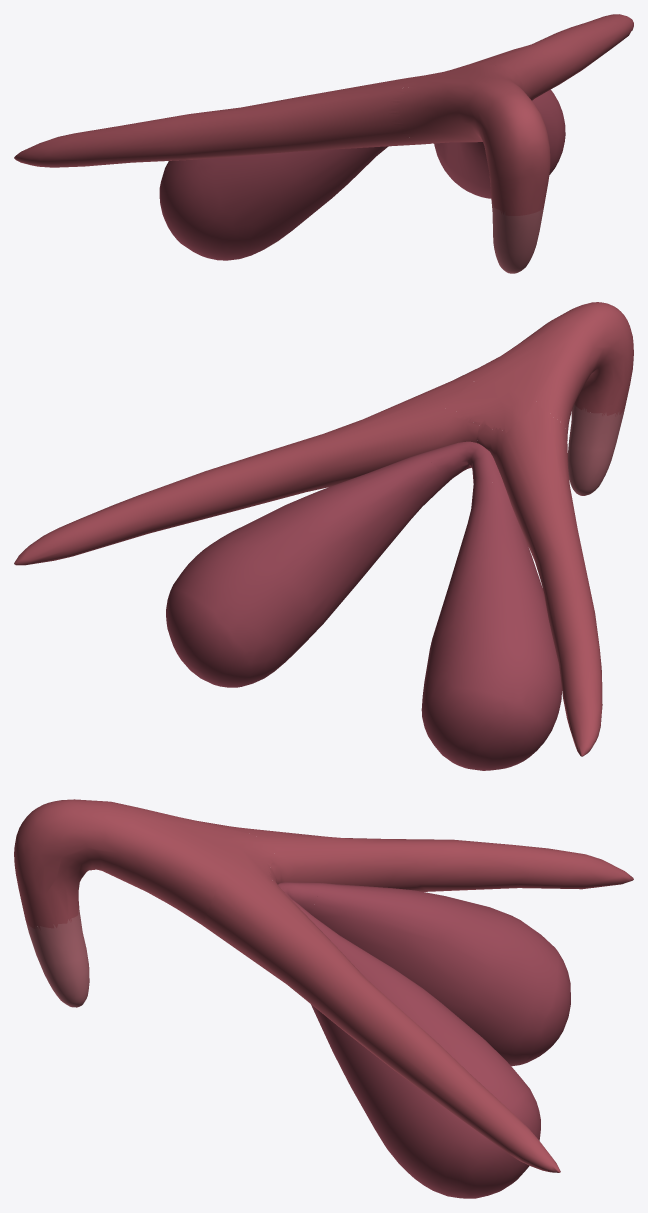
The model's file is vulva.glb.
The picture shows the model from 3 angles, top to bottom: view 1: azimuth 30°, elevation 25°; view 2: azimuth 150°, elevation 25°; view 3: azimuth 270°, elevation 25°; orthographic projection. The views are drawn at different scales.
Parts seen in each view (by area): view 1: c5, c2, c0, c4, c1, c6; view 2: c1, c2, c4, c5, c0, c6, c3; view 3: c2, c4, c1, c0, c5, c6, c3.
Boxes of the visible parts, x1,y1,x2,y2 form: c5: (14, 78, 428, 167); c2: (159, 146, 388, 260); c0: (389, 63, 550, 215); c4: (472, 14, 633, 100); c1: (434, 65, 565, 198); c6: (491, 202, 543, 273); c1: (166, 456, 443, 687); c2: (421, 477, 561, 770); c4: (14, 379, 480, 565); c5: (476, 400, 602, 756); c0: (445, 302, 633, 440); c6: (568, 404, 624, 495); c3: (411, 441, 506, 492); c2: (311, 883, 570, 1066); c4: (202, 859, 560, 1172); c1: (311, 917, 540, 1198); c0: (14, 799, 278, 930); c5: (230, 827, 633, 891); c6: (26, 910, 89, 1007); c3: (278, 882, 322, 921).
Size of the model in its own units: 7.94 by 3.61 by 6.56.
